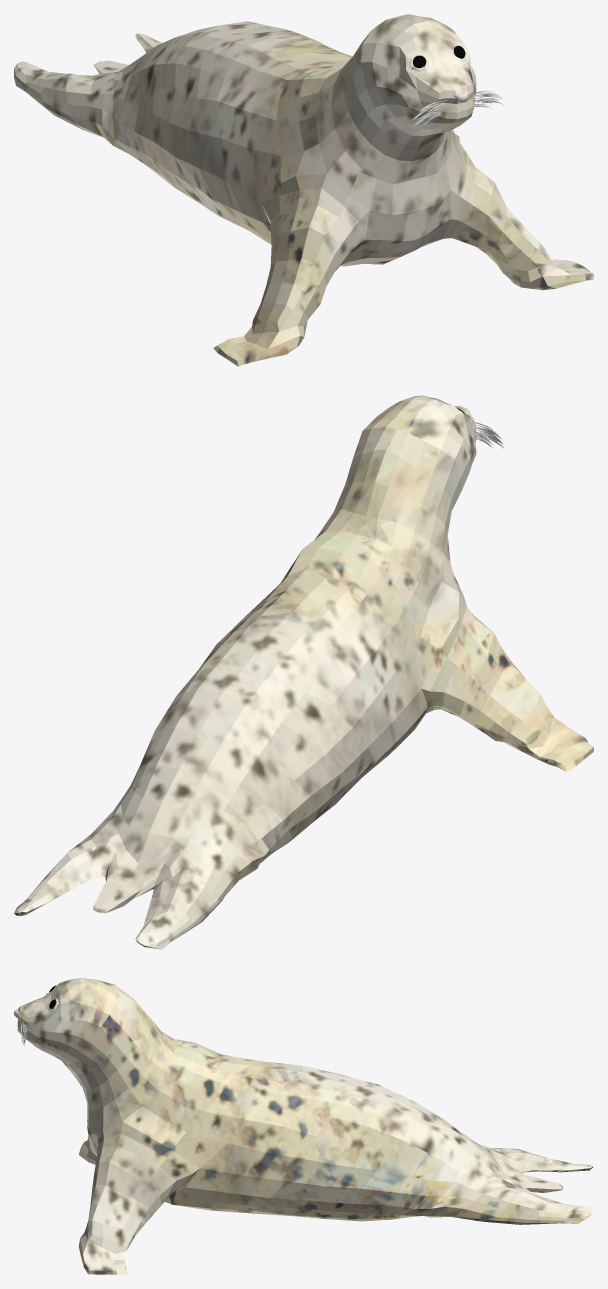
File: seal.fbx
The picture shows the model from 3 angles, top to bottom: view 1: azimuth 30°, elevation 25°; view 2: azimuth 150°, elevation 25°; view 3: azimuth 270°, elevation 25°; orthographic projection. The views are drawn at different scales.
Parts seen in each view (by area): view 1: Plane, NurbsPath.002; view 2: Plane; view 3: Plane.
Boxes of the visible parts, bbox=[...] form: Plane: bbox=[14, 14, 593, 366]; NurbsPath.002: bbox=[413, 90, 503, 125]; Plane: bbox=[14, 395, 593, 949]; Plane: bbox=[17, 978, 593, 1274].
Bounding box in the file's own units: 387 × 315 × 723.
4 materials, 1 textured.
